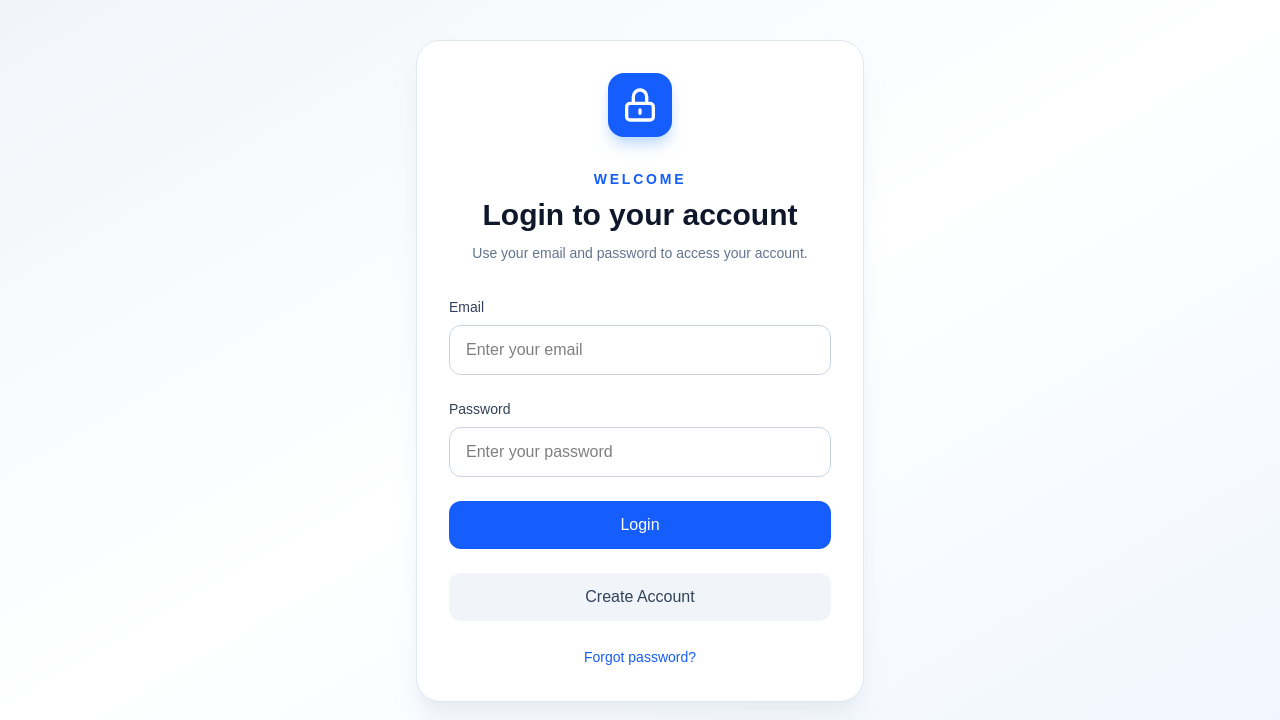
Test: LoginPage › shows the account creation form after create account is clicked
This screenshot has width=1280, height=720.
Click the button "Create Account" at (640, 597), box [449,573,831,621]
(page scrolled)
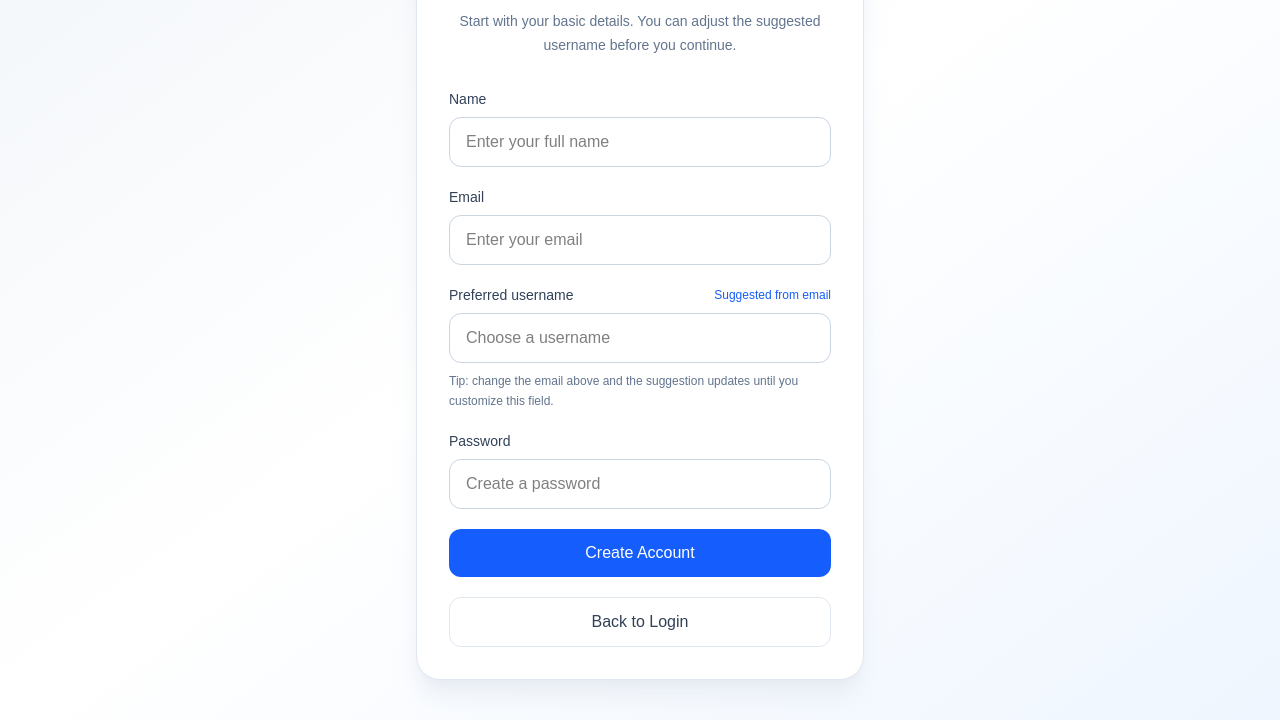
Now the field with id "fullName" is shown, box [449,117,831,167]
Now the field with id "accountEmail" is shown, box [449,215,831,265]
Now the field labelled "Preferred username" is shown, box [449,313,831,363]
